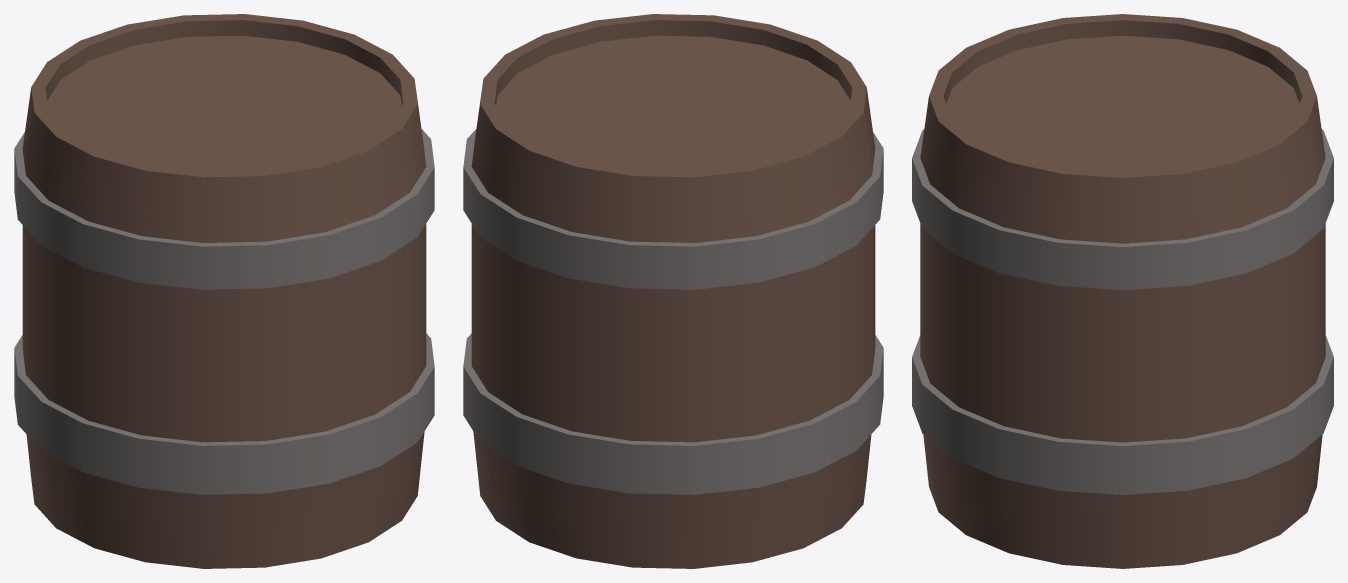
Rendered from Barrel.fbx.
The picture shows the model from 3 angles, left to right: view 1: azimuth 30°, elevation 25°; view 2: azimuth 150°, elevation 25°; view 3: azimuth 270°, elevation 25°; orthographic projection.
Parts seen in each view (by area): view 1: Barrel; view 2: Barrel; view 3: Barrel.
Boxes of the visible parts, box(x1,y1,x2,y2) form: Barrel: box(14, 14, 434, 568); Barrel: box(463, 14, 883, 568); Barrel: box(912, 14, 1333, 568).
Size of the model in its own units: 2.92 by 2.98 by 2.92.
